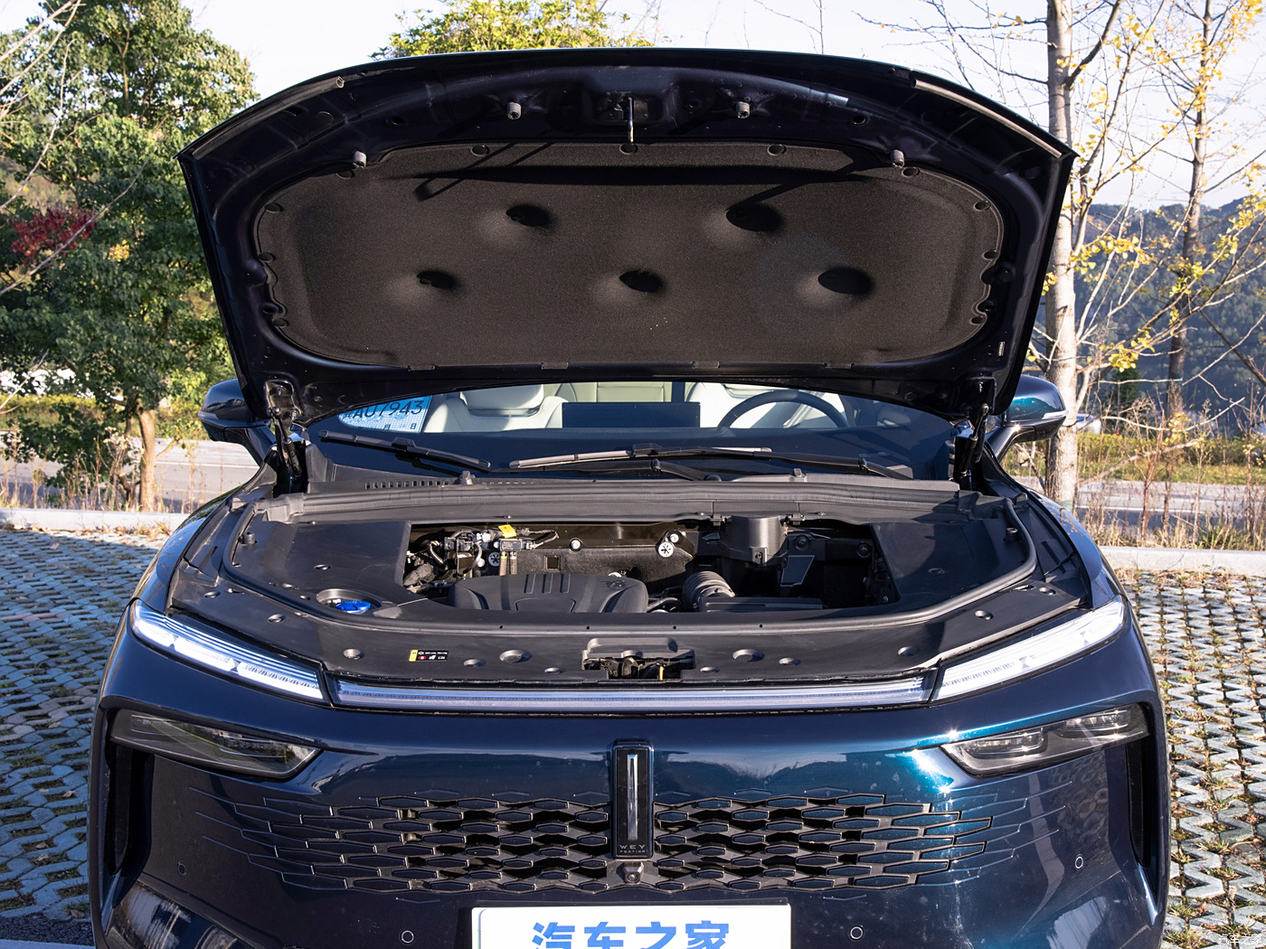WEY: (616, 750, 647, 855)
